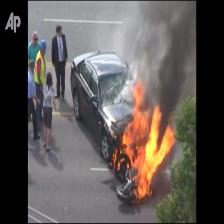fire: (127, 105, 174, 194)
smoke: (131, 2, 188, 100)
